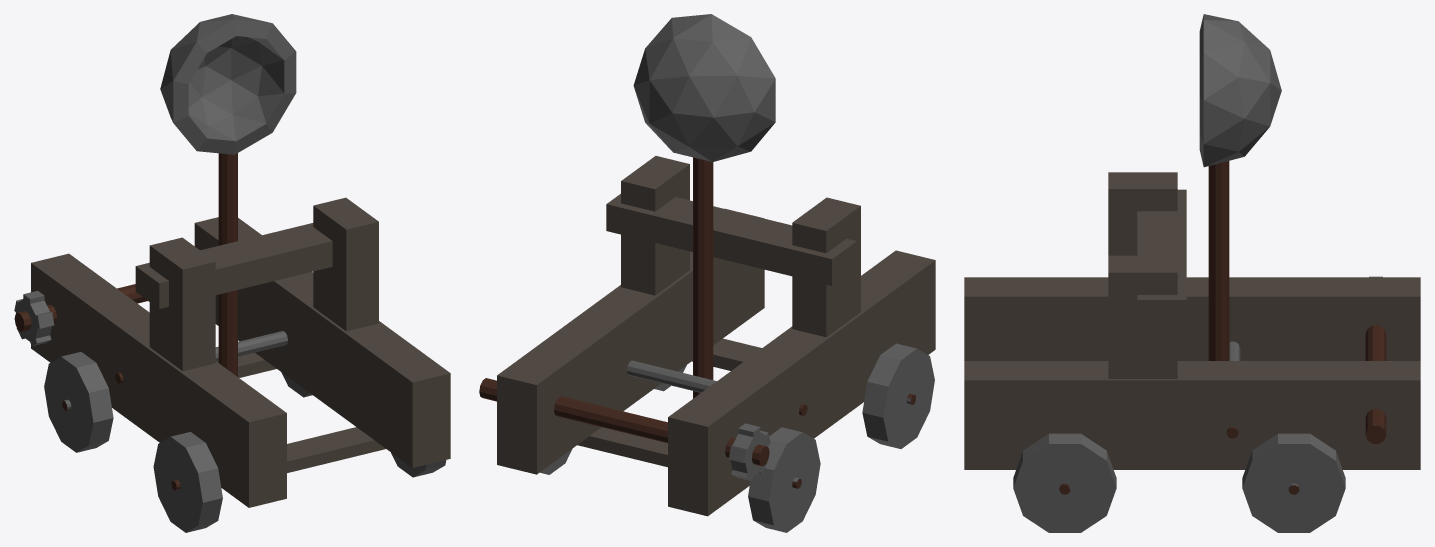
Rendered from Catapult.fbx.
3 renders of one model, left to right at view 1: azimuth 30°, elevation 25°; view 2: azimuth 150°, elevation 25°; view 3: azimuth 270°, elevation 25°, orthographic. The views are drawn at different scales.
Parts seen in each view (by area): view 1: Frame.002, Arm, Wheels_Front, Wheels_Back, Crank; view 2: Frame.002, Arm, Wheels_Front, Wheels_Back, Crank; view 3: Frame.002, Arm, Wheels_Front, Wheels_Back, Crank.
Part boxes in pixels (left/top/right/bottom): Frame.002: left=31, top=197, right=450, bottom=507; Arm: left=115, top=14, right=296, bottom=383; Wheels_Front: left=153, top=432, right=446, bottom=532; Wheels_Back: left=44, top=352, right=312, bottom=452; Crank: left=14, top=284, right=147, bottom=346; Frame.002: left=497, top=156, right=935, bottom=516; Arm: left=627, top=14, right=807, bottom=415; Wheels_Front: left=654, top=343, right=934, bottom=448; Wheels_Back: left=540, top=427, right=820, bottom=532; Crank: left=479, top=378, right=770, bottom=481; Frame.002: left=964, top=172, right=1420, bottom=469; Arm: left=1199, top=14, right=1281, bottom=438; Wheels_Front: left=1013, top=433, right=1116, bottom=532; Wheels_Back: left=1242, top=433, right=1345, bottom=532; Crank: left=1365, top=276, right=1386, bottom=443.
Bounding box in the file's own units: 6.55 × 10.03 × 9.23.
